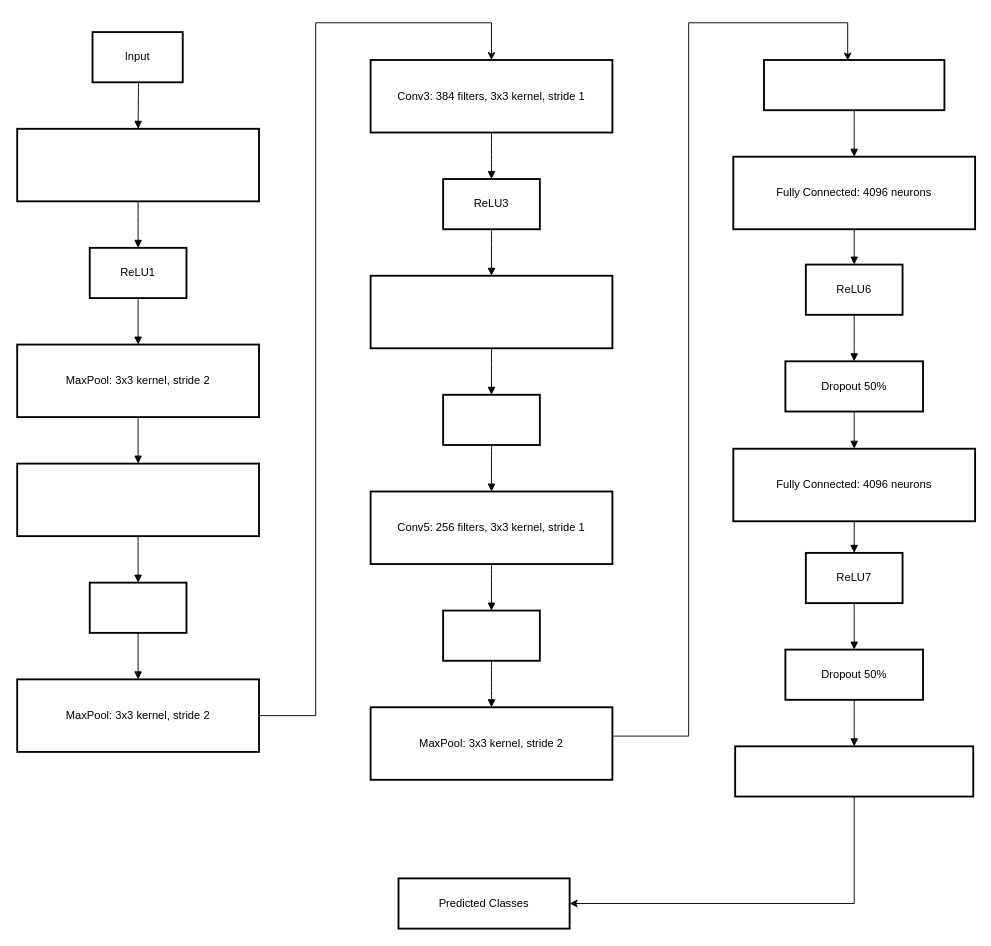
This 991x946 diagram has some shape labels left out. Each missing label, with the box of its shape:
Conv1: 96 filters, 11x11 kernel, stride 4: (16, 127, 259, 202)
Conv2: 256 filters, 5x5 kernel, stride 1: (16, 462, 259, 537)
Conv4: 384 filters, 3x3 kernel, stride 1: (369, 274, 613, 349)
Flatten to 256x6x6: (763, 59, 945, 111)
Fully Connected: 5 neurons: (734, 745, 974, 797)
ReLU2: (88, 581, 187, 633)
ReLU4: (442, 393, 540, 445)
ReLU5: (442, 609, 540, 661)
